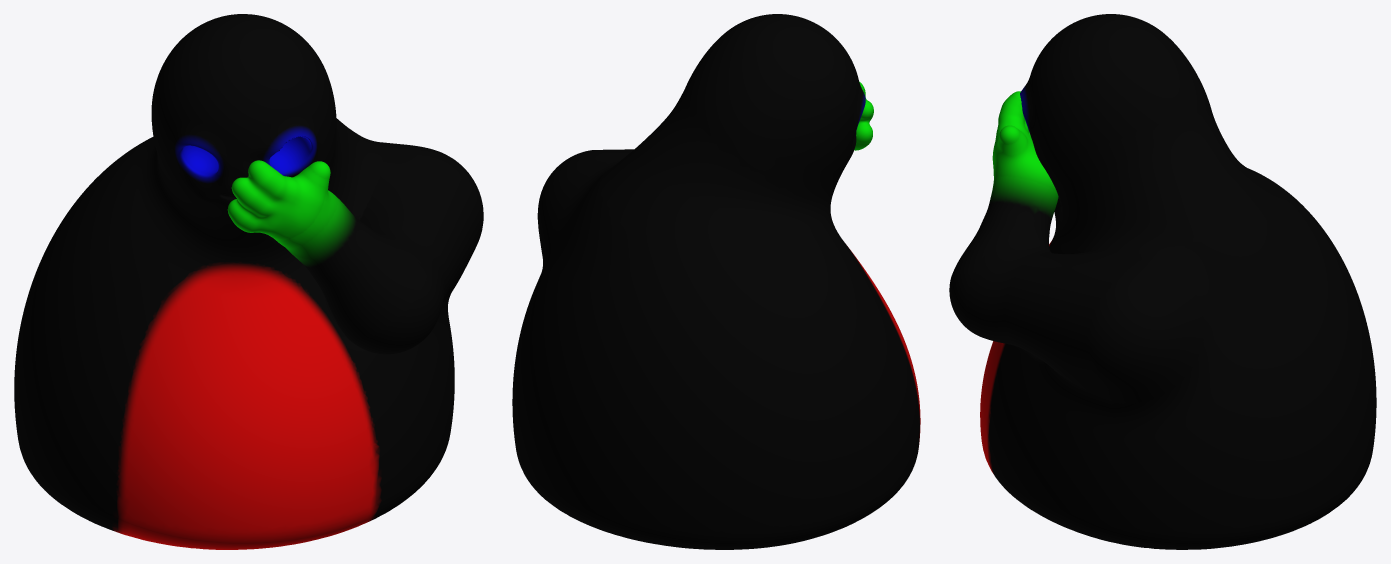
File: skin.glb
3 renders of one model, left to right at view 1: azimuth 30°, elevation 25°; view 2: azimuth 150°, elevation 25°; view 3: azimuth 270°, elevation 25°, orthographic. The views are drawn at different scales.
Visible parts, largest first — view 1: geometry_0; view 2: geometry_0; view 3: geometry_0.
Part boxes in pixels (left/top/right/bottom): geometry_0: left=14, top=14, right=483, bottom=549; geometry_0: left=512, top=14, right=920, bottom=549; geometry_0: left=949, top=14, right=1376, bottom=549.
Size of the model in its own units: 1.29 by 1.47 by 1.29.
